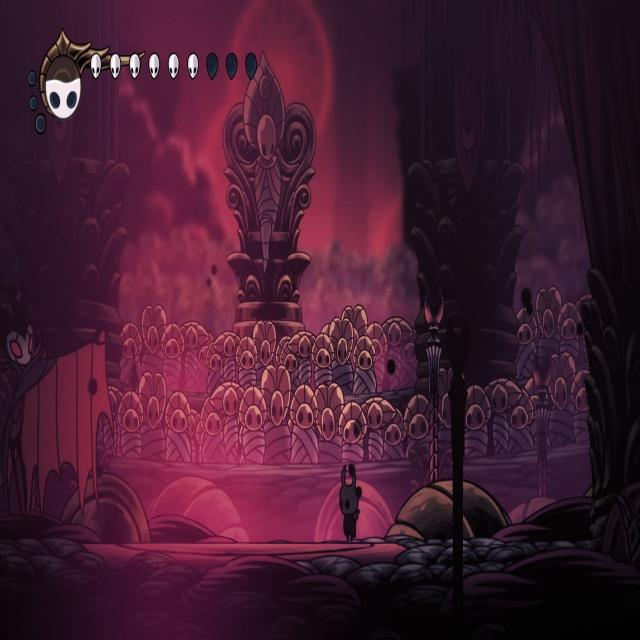Open Cloak: (0, 279, 121, 538)
Player: (338, 459, 363, 544)
